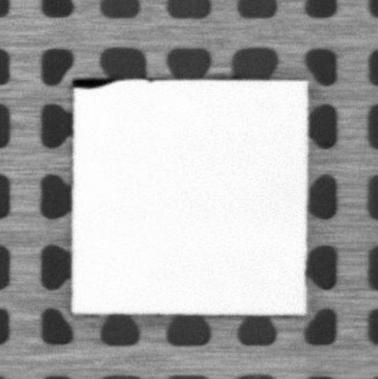DIE_BROKEN: (70, 77, 117, 88)
